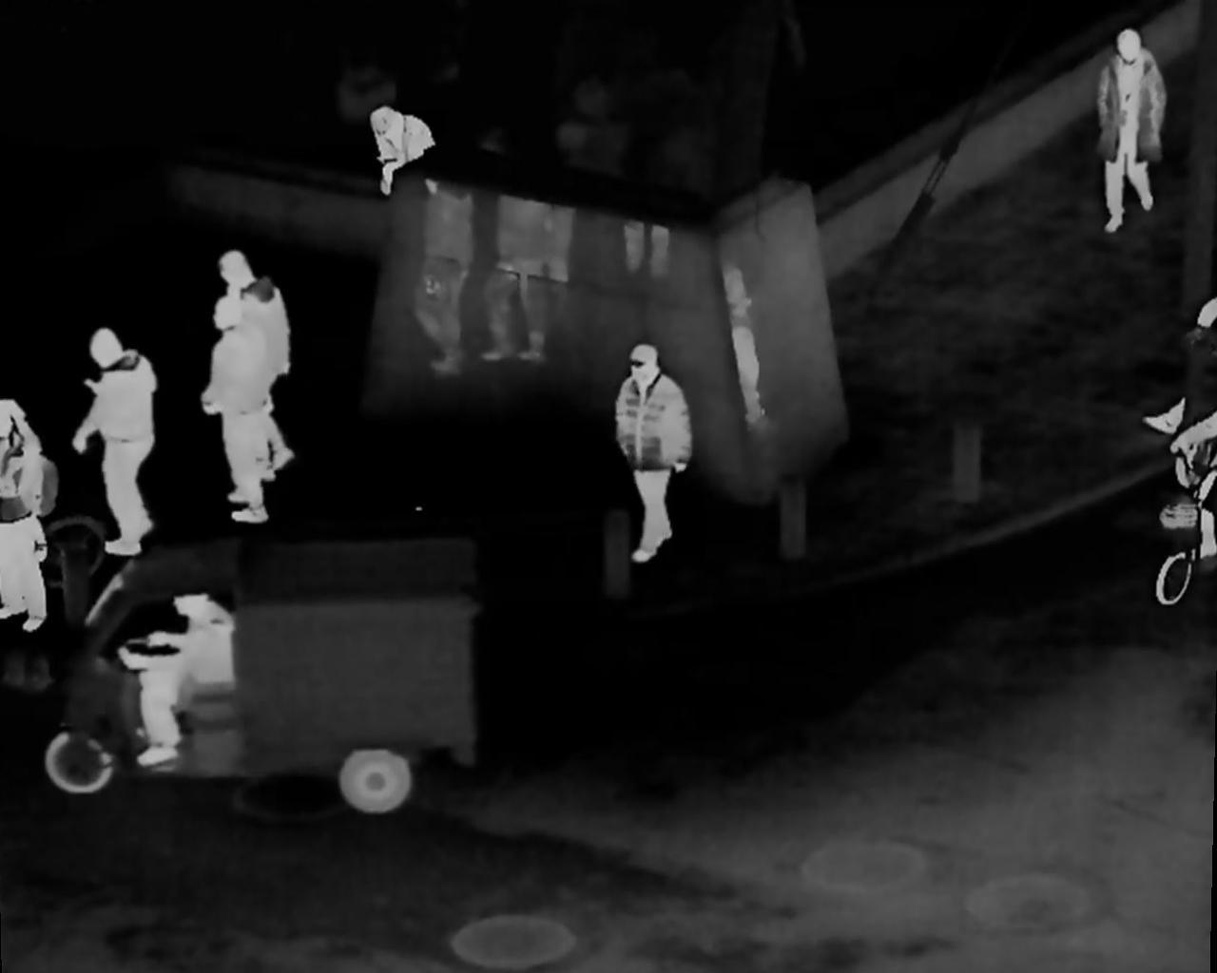person: (70, 320, 170, 557), (133, 591, 251, 771), (206, 255, 294, 471), (196, 303, 280, 526), (1087, 25, 1158, 238), (621, 335, 686, 567), (365, 107, 441, 200)
